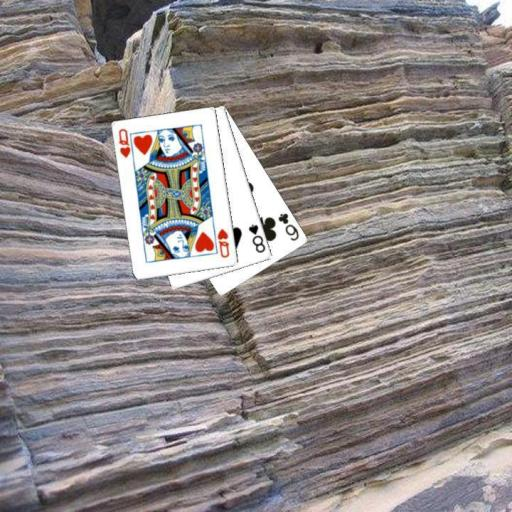card-corner: (275, 210, 301, 242), (115, 126, 136, 162), (246, 221, 268, 255), (214, 226, 231, 260)
